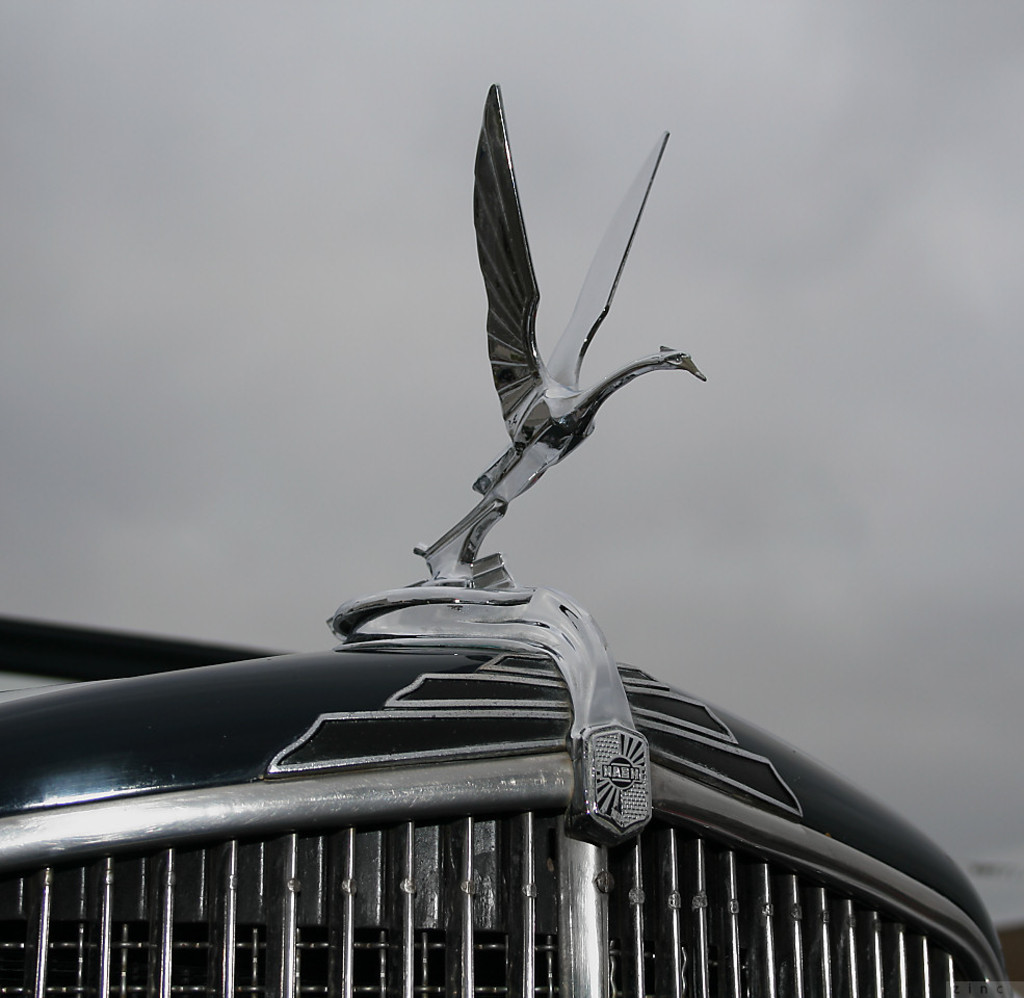Animal: (413, 89, 693, 588)
